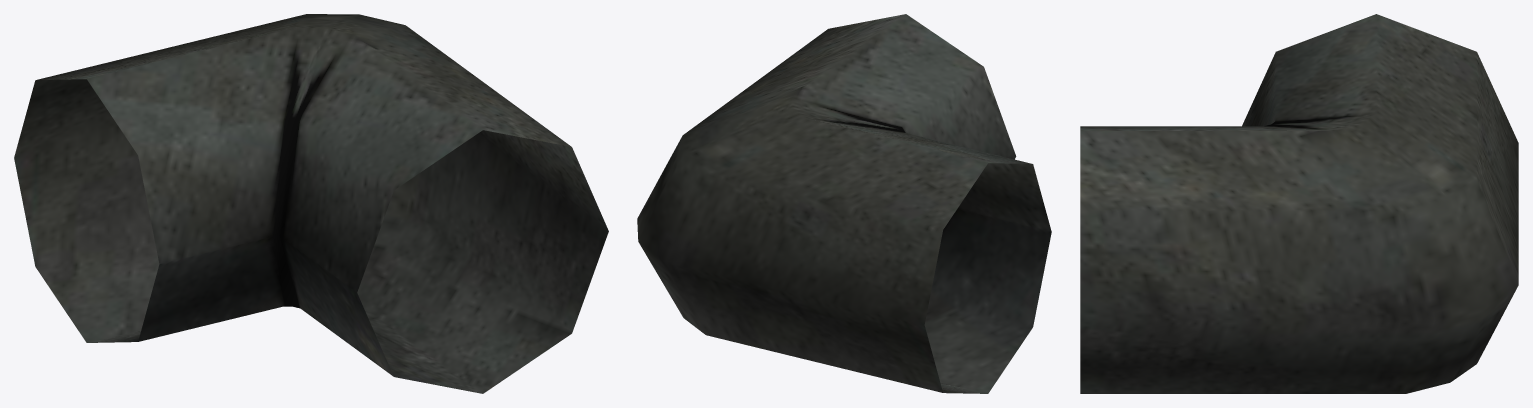
File: ThickMetal_Pipe_Turn.FBX
3 views of the same model, side by side, from view 1: azimuth 30°, elevation 25°; view 2: azimuth 150°, elevation 25°; view 3: azimuth 270°, elevation 25° (orthographic). The views are drawn at different scales.
Visible parts, largest first — view 1: ThickMetal_Pipe_Turn; view 2: ThickMetal_Pipe_Turn; view 3: ThickMetal_Pipe_Turn.
Part boxes in pixels (<box>): ThickMetal_Pipe_Turn: <box>14,14,608,393</box>; ThickMetal_Pipe_Turn: <box>637,14,1051,393</box>; ThickMetal_Pipe_Turn: <box>1080,14,1518,393</box>.
Bounding box in the file's own units: 76.16 × 51.77 × 79.65.
